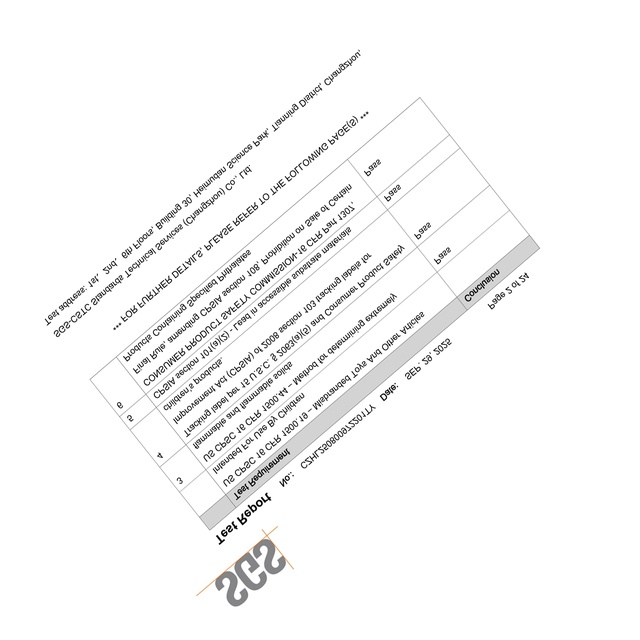sgs: (213, 538, 288, 608)
